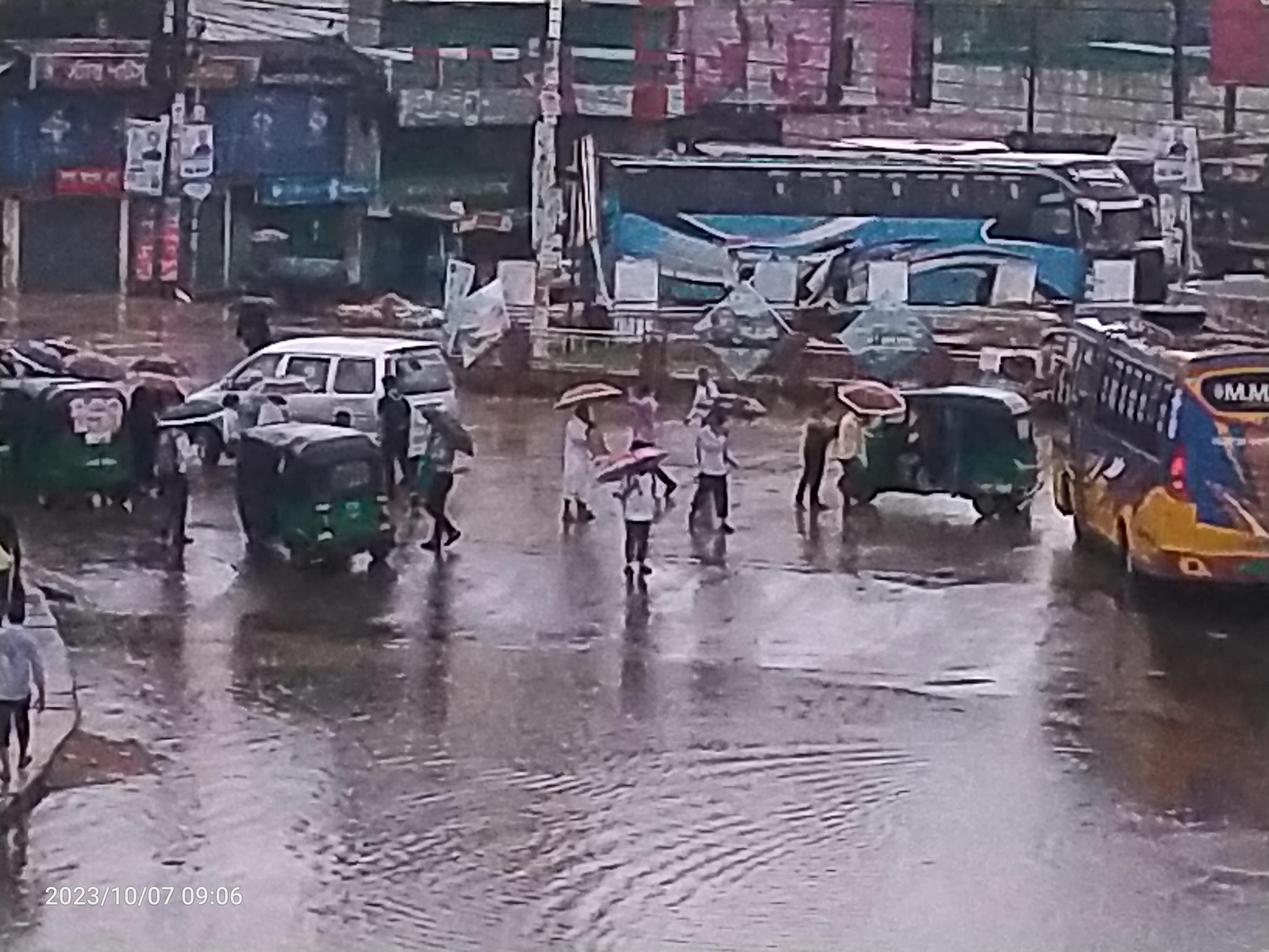Bus: (553, 127, 1184, 356), (1044, 290, 1269, 597)
Car: (164, 319, 485, 493)
